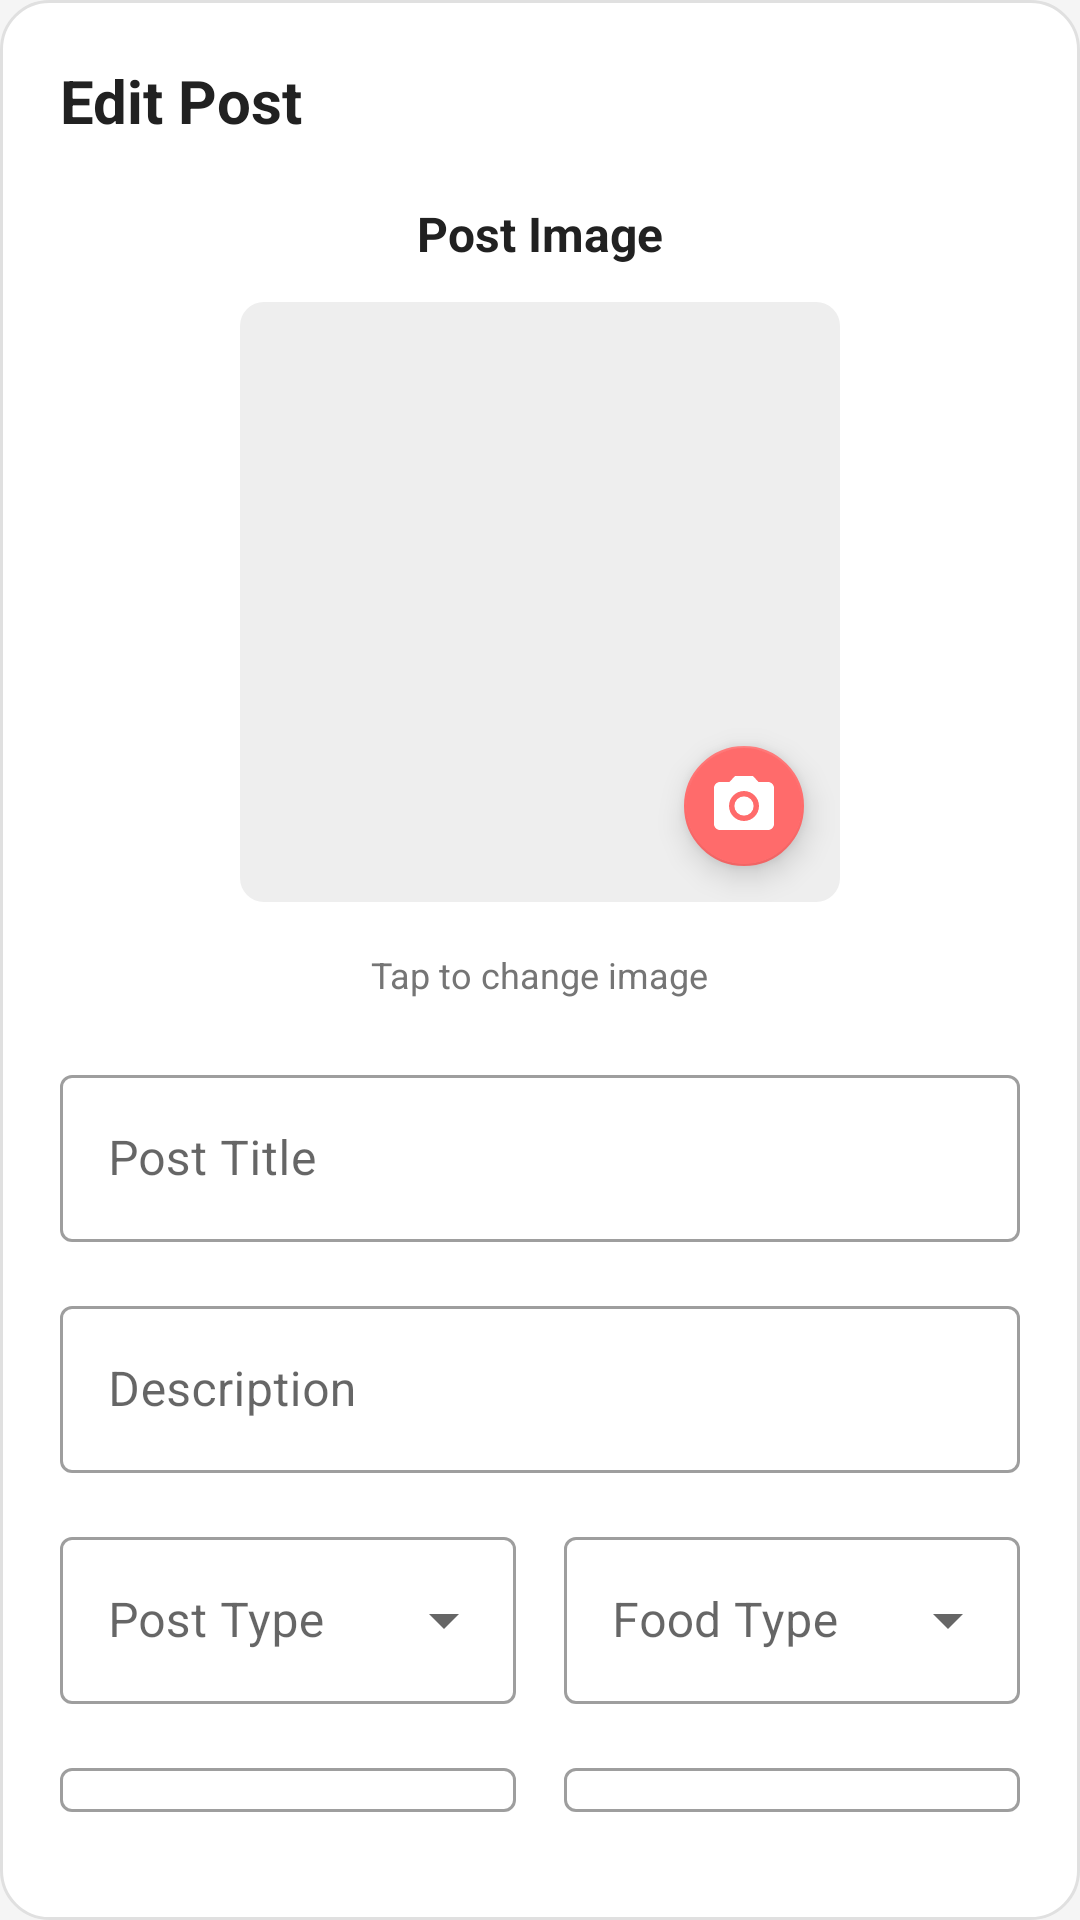

Named icons in this screenshot (1080px x 1920px) and their bounding boxes, (x1, y1, x2, y2):
camera: (684, 746, 804, 870)
